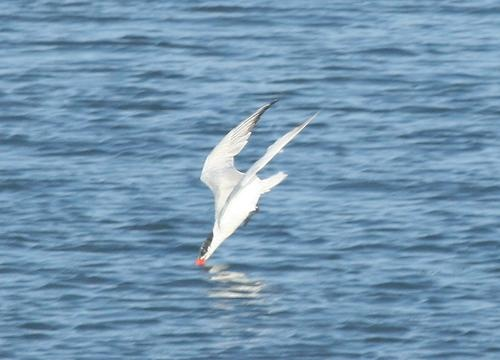bird: (185, 95, 324, 270)
